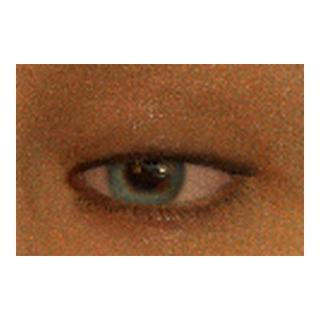pupil: (129, 155, 163, 189)
